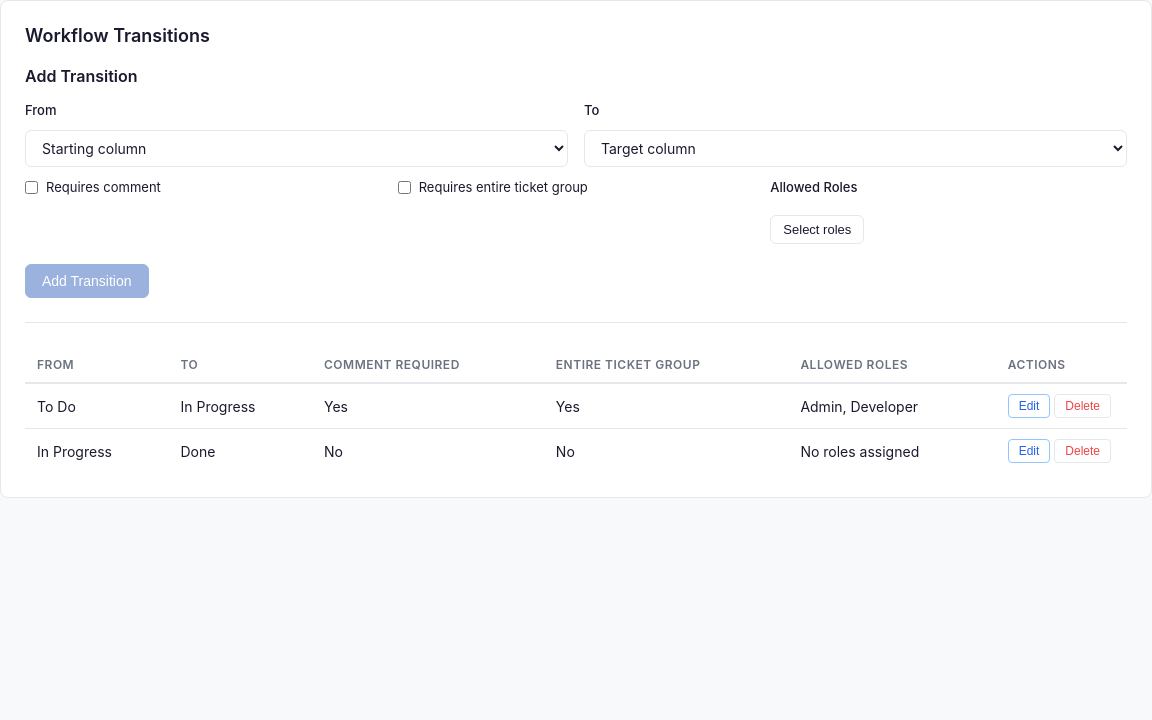
Scenario: WorkflowSettings - Edit Modal › openEditTransitionModal pre-fills form correctly with boolean values
The width and height of the screenshot is (1152, 720).
Click the button with class "edit-btn" in the row of "Done": (1029, 451) [1008,439,1050,463]
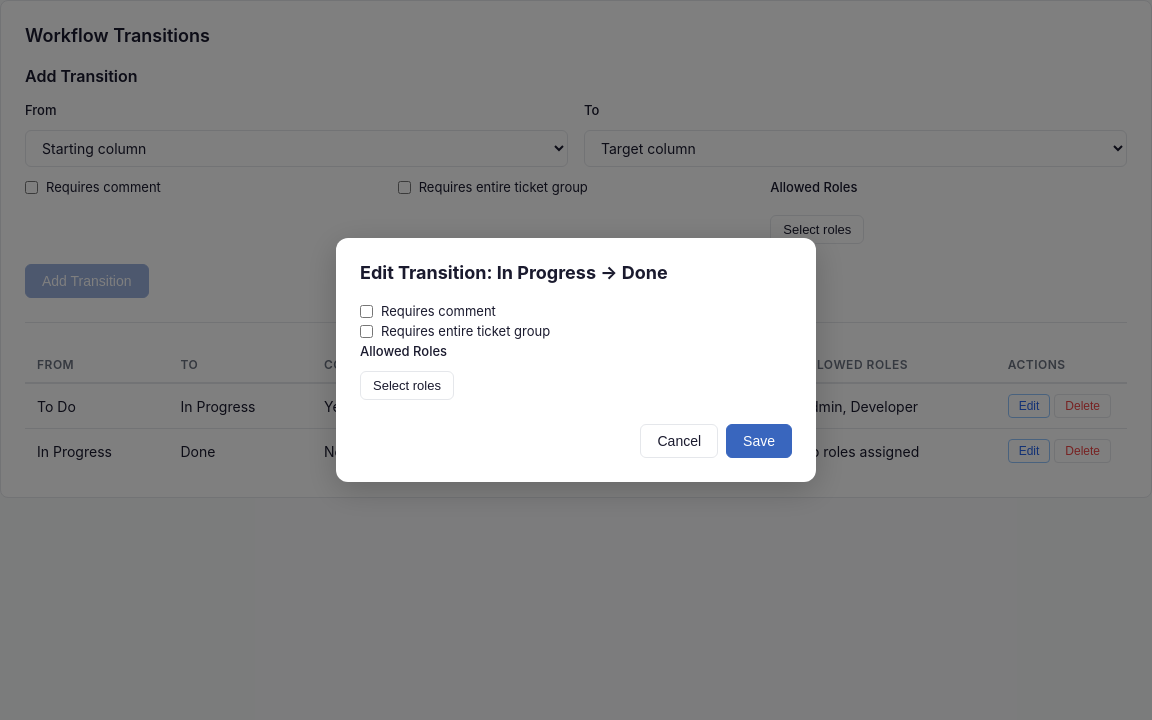
Now the checkbox labelled "Requires comment" is not checked, box [360,304,373,318]
Now the checkbox labelled "Requires entire ticket group" is not checked, box [360,324,373,338]
